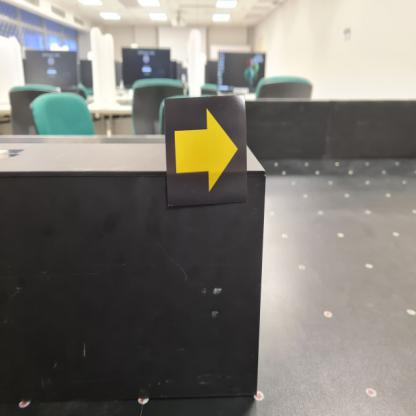right: (164, 95, 249, 207)
